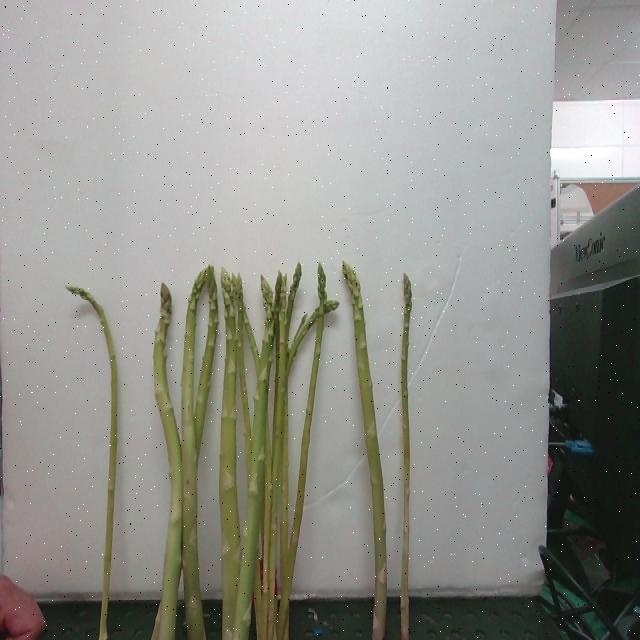aspargus: (65, 288, 119, 640), (343, 264, 388, 640), (398, 276, 415, 640)
